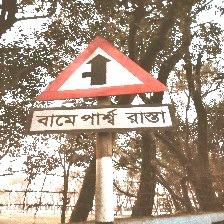Side-road-left: (31, 35, 175, 134)
